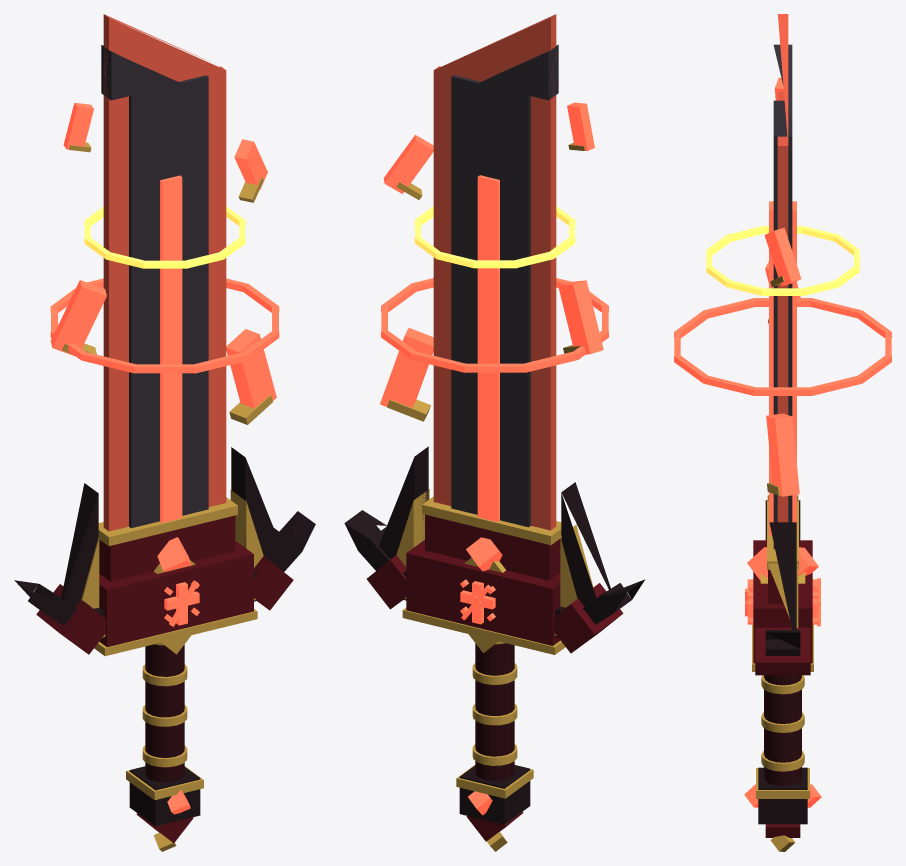
The picture shows the model from 3 angles, left to right: view 1: azimuth 30°, elevation 25°; view 2: azimuth 150°, elevation 25°; view 3: azimuth 270°, elevation 25°; orthographic projection. The views are drawn at different scales.
Visible parts, largest first — view 1: calamity-edge; view 2: calamity-edge; view 3: calamity-edge.
Part boxes in pixels (x1,y1,x2,y2): calamity-edge: [14, 14, 315, 851]; calamity-edge: [344, 14, 645, 851]; calamity-edge: [674, 14, 891, 851].
Size of the model in its own units: 0.4389 by 1.26 by 0.3061.
